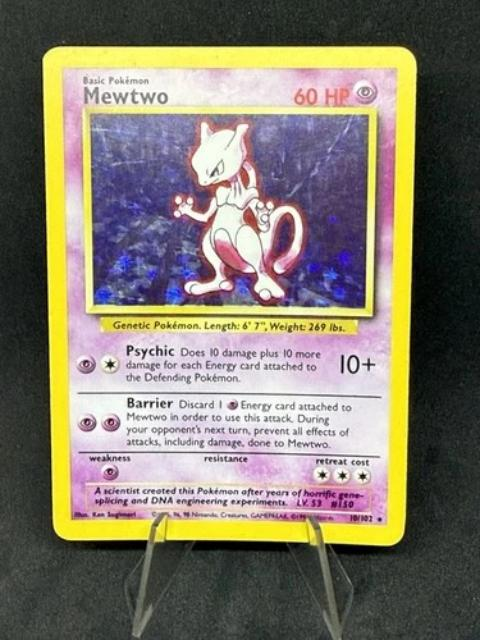Card: (37, 38, 420, 545)
Name: (78, 83, 174, 109)
